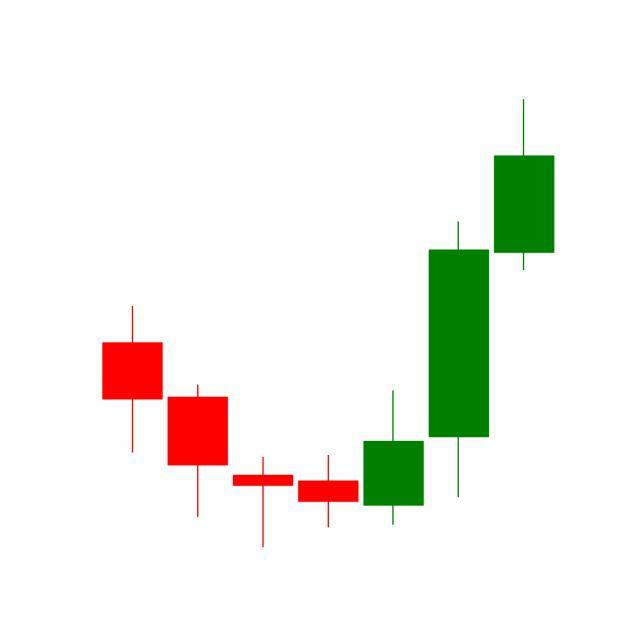Three Outside Up-Down: (295, 219, 492, 532)
